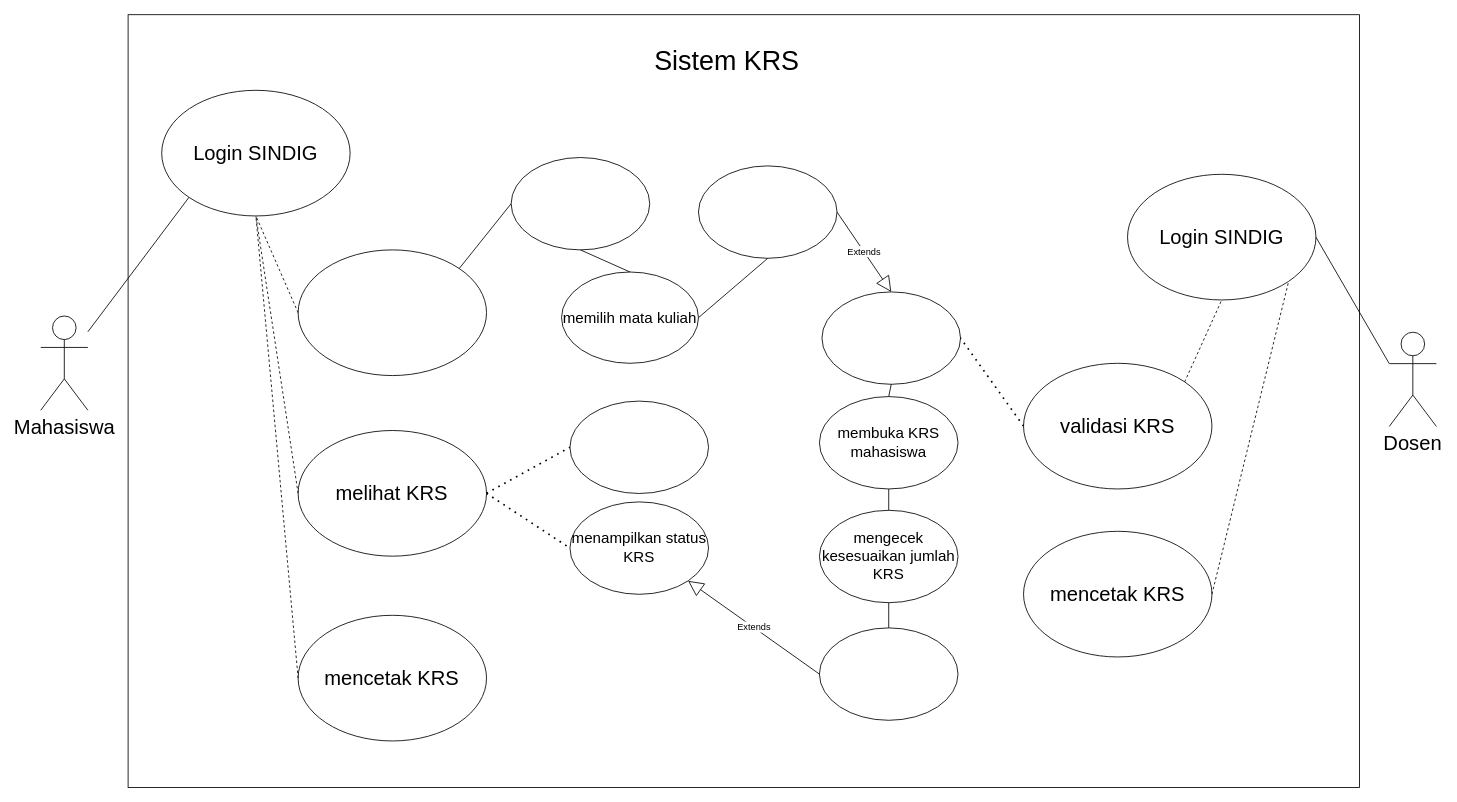
Image size: 1457x802. Some labels were removed from this diagram. The centre of each missing label's shape, as x and y in pixels:
memberikan status validasi: (888,673)
menampilkan daftar mata kuliah yang sudah dipilih: (639,447)
menampilkan daftar mata kuliah yang tersedia.: (580,203)
menampilkan data mahasiswa bimbingan: (891,337)
Mengambil mata kuliah: (392,312)
menyimpan data: (767,211)
